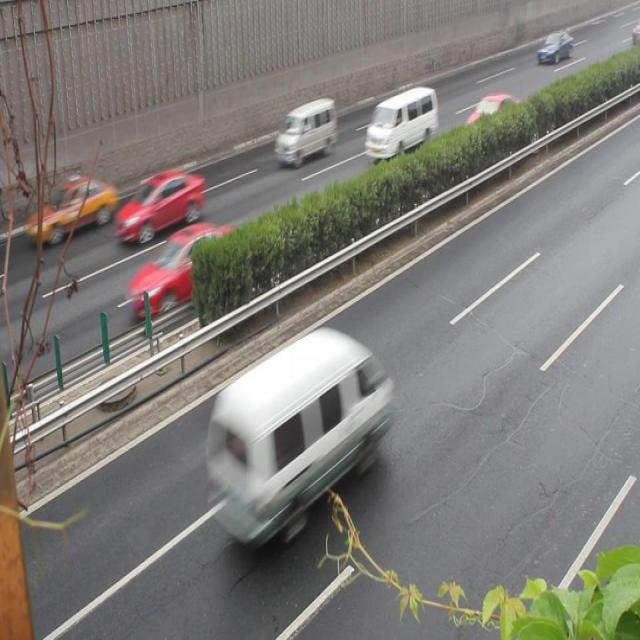car: (124, 220, 234, 318), (113, 166, 203, 241), (32, 172, 115, 243), (459, 92, 525, 150)
